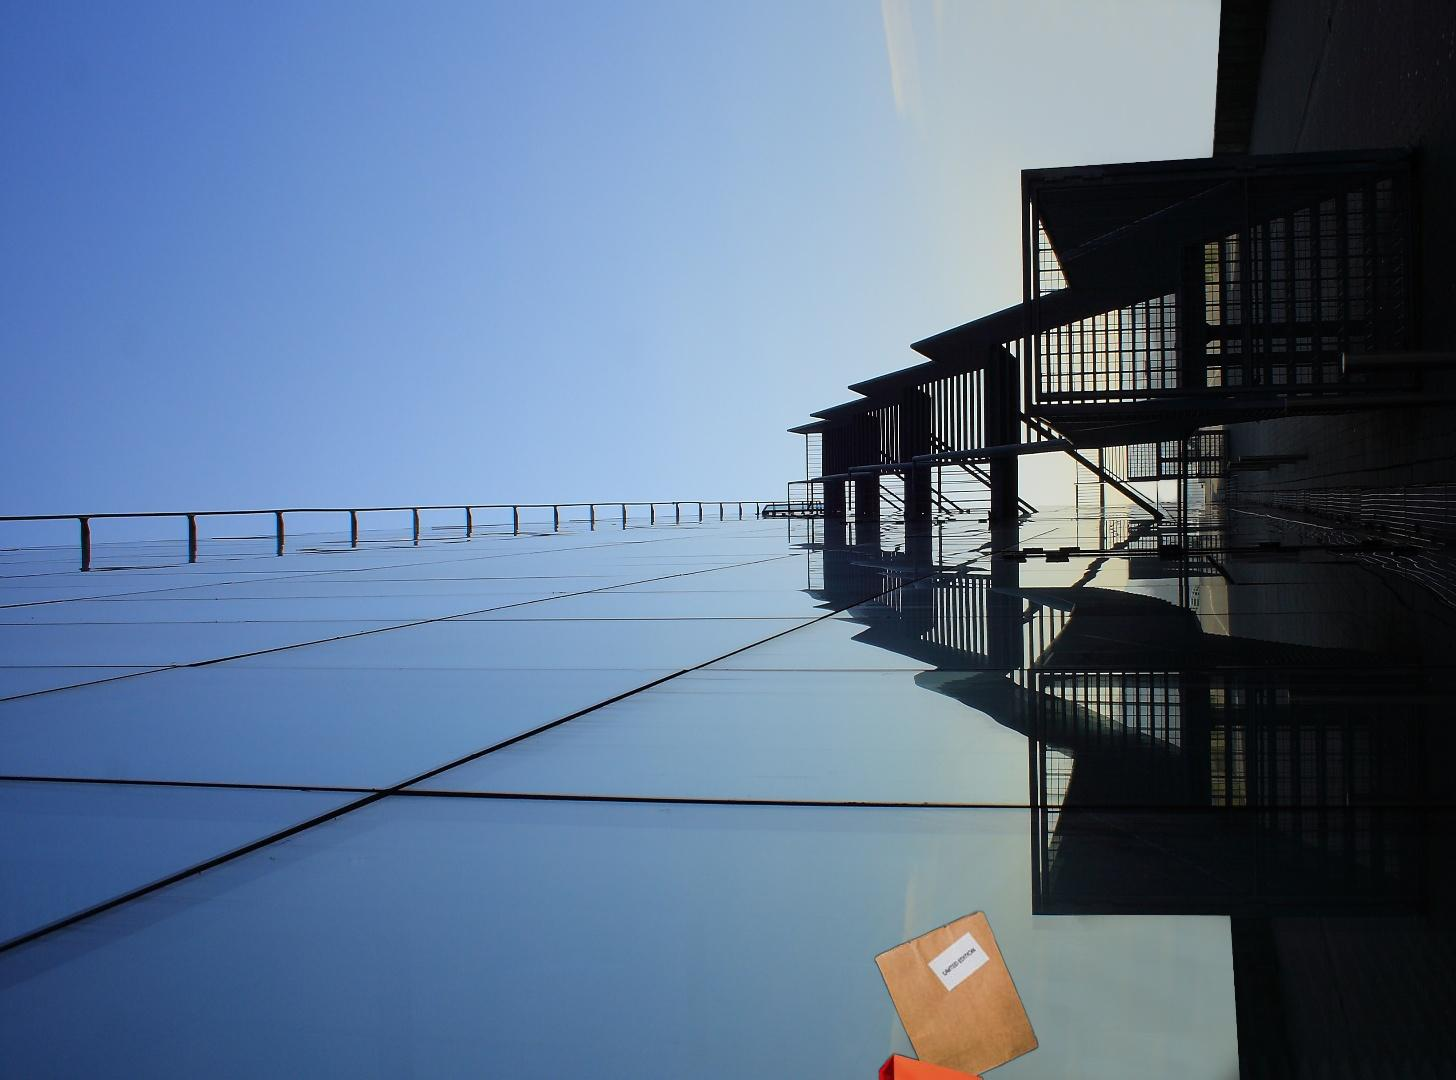paper-bag: (874, 908, 1040, 1080)
